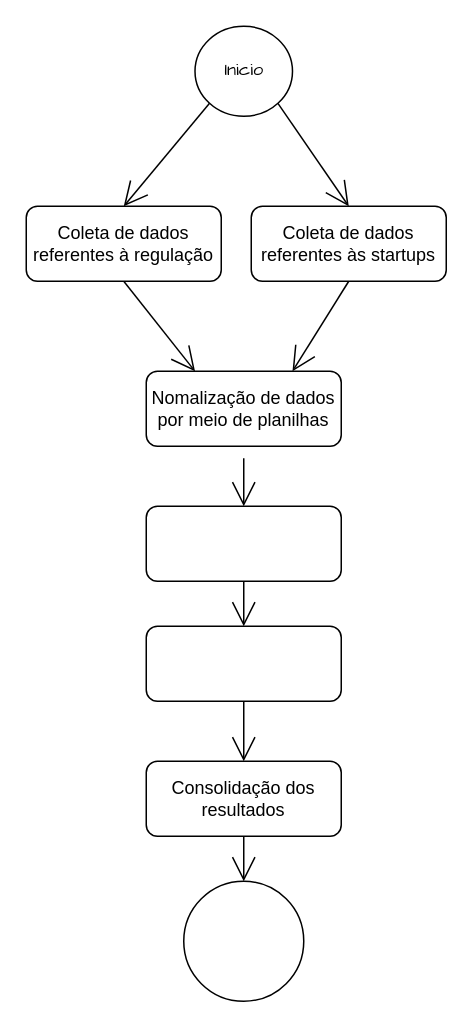
Some shapes in this 473 by 1028 pixel diagram are drawn without their labels. Here are the shapes that lost their labels. From the top down, the centre of each, then its label:
At [243,543]: "Destaque e remoção de outliers".
At [243,663]: "Calculo da correlação de Pearson".
At [243,940]: "Fim".
